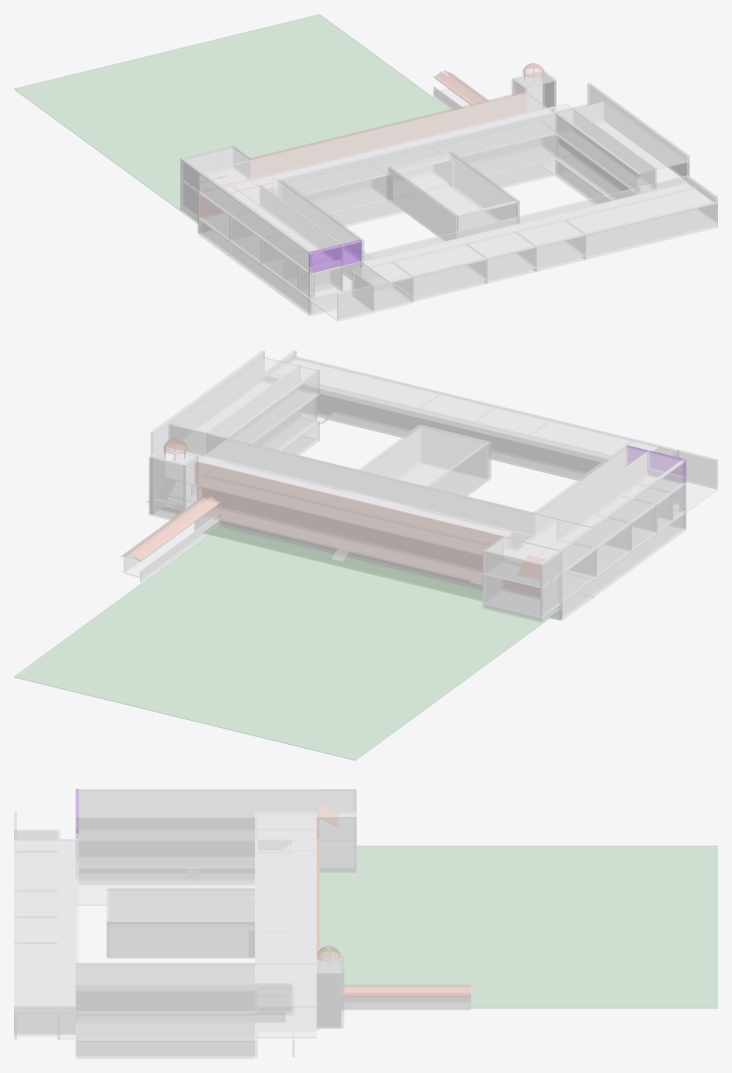
3 renders of one model, top to bottom at view 1: azimuth 30°, elevation 25°; view 2: azimuth 150°, elevation 25°; view 3: azimuth 270°, elevation 25°, orthographic. The views are drawn at different scales.
Visible parts, largest first — view 1: p1, p201, p364, p316, p332, p346, p353, p326, p175, p356, p358, p360 (+40 smaller); view 2: p1, p364, p346, p223, p316, p217, p353, p326, p332, p356, p358, p22 (+36 smaller); view 3: p1, p364, p332, p316, p326, p79, p169, p137, p165, p358, p356, p360 (+39 smaller).
Part boxes in pixels (x1,y1,x2,y2): p1: (14, 14, 450, 224); p201: (337, 201, 717, 319); p364: (199, 92, 554, 193); p316: (362, 182, 714, 282); p332: (362, 182, 716, 282); p346: (278, 99, 606, 196); p353: (249, 91, 526, 178); p326: (272, 104, 572, 195); p175: (411, 210, 717, 298); p356: (227, 181, 360, 253); p358: (556, 101, 688, 174); p360: (390, 152, 517, 216); p1: (14, 525, 561, 760); p364: (197, 438, 593, 550); p346: (168, 424, 535, 535); p223: (197, 485, 561, 602); p316: (289, 357, 659, 457); p217: (265, 374, 609, 480); p353: (194, 461, 503, 554); p326: (166, 451, 511, 553); p332: (286, 357, 659, 457); p356: (536, 446, 685, 527); p358: (171, 357, 319, 438); p22: (194, 516, 561, 620); p1: (320, 846, 717, 1008); p364: (255, 790, 316, 963); p332: (14, 839, 75, 1013); p316: (14, 839, 75, 1005); p326: (258, 850, 316, 1007); p79: (76, 983, 291, 1011); p169: (107, 921, 254, 957); p137: (76, 839, 279, 867); p165: (107, 888, 254, 925); p358: (76, 963, 254, 991); p356: (76, 790, 254, 817); p360: (107, 890, 254, 921).
Size of the model in its own units: 7700 by 1630 by 11400.
